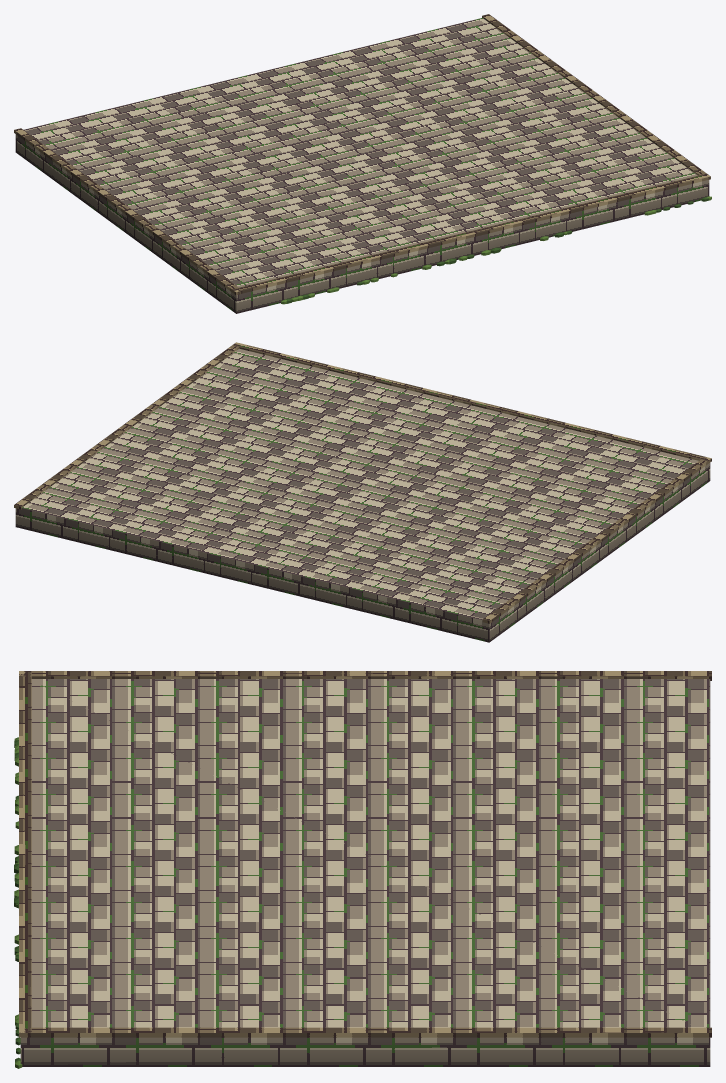
File: scene_wall_s.glb
3 views of the same model, one above another, from view 1: azimuth 30°, elevation 25°; view 2: azimuth 150°, elevation 25°; view 3: azimuth 270°, elevation 25° (orthographic). The views are drawn at different scales.
Visible parts, largest first — view 1: scene_wall_s; view 2: scene_wall_s; view 3: scene_wall_s.
Boxes of the visible parts, bbox=[...] form: scene_wall_s: bbox=[14, 14, 711, 313]; scene_wall_s: bbox=[14, 342, 711, 642]; scene_wall_s: bbox=[14, 671, 711, 1068].
Bounding box in the file's own units: 24.15 × 1.17 × 19.64.
Materials: 2 (1 with a texture image).
